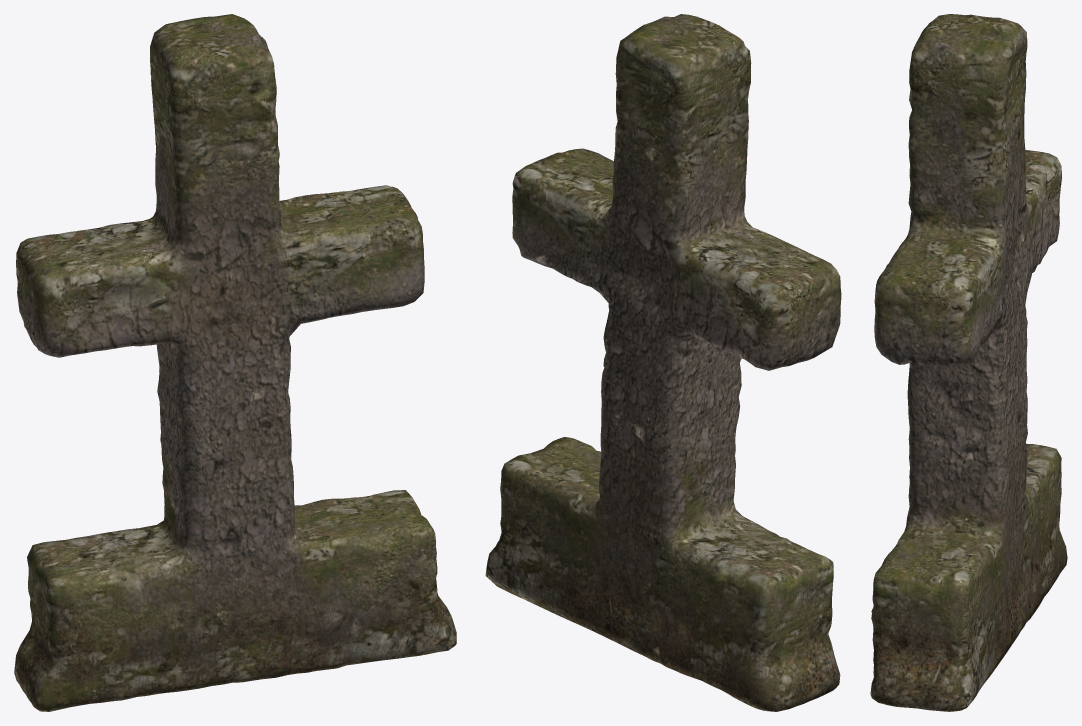
File: gravestone02.obj
3 views of the same model, side by side, from view 1: azimuth 30°, elevation 25°; view 2: azimuth 150°, elevation 25°; view 3: azimuth 270°, elevation 25° (orthographic). The views are drawn at different scales.
Parts seen in each view (by area): view 1: gravestone02; view 2: gravestone02; view 3: gravestone02.
Part boxes in pixels (x1,y1,x2,y2): gravestone02: [14, 14, 456, 711]; gravestone02: [485, 14, 841, 711]; gravestone02: [870, 14, 1067, 711].
Bounding box in the file's own units: 2.33 × 3.73 × 1.1.
Materials: 1 (1 with a texture image).
